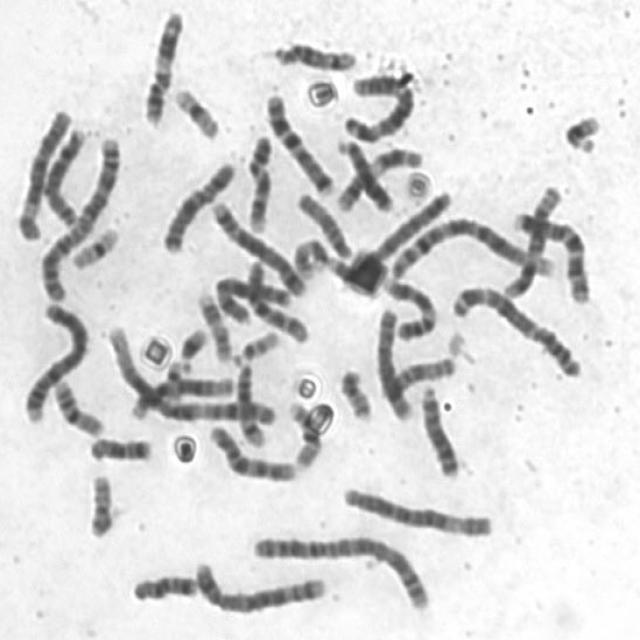A1: (99, 318, 280, 428), (381, 208, 563, 282)
A2: (242, 524, 433, 612), (32, 127, 124, 303)
A3: (444, 278, 584, 380), (337, 65, 417, 144)
B4: (336, 182, 454, 296), (15, 294, 91, 425)
B5: (204, 192, 309, 298), (185, 552, 329, 616)
C10: (239, 251, 312, 346), (200, 416, 300, 484)
C11: (329, 138, 424, 212), (136, 2, 186, 128)
C12: (496, 177, 566, 299), (125, 368, 238, 421)
C6: (334, 477, 496, 540), (8, 101, 75, 243)
C7: (258, 84, 337, 197), (505, 204, 592, 304)
C8: (368, 299, 416, 422), (36, 118, 89, 228)
C9: (376, 268, 438, 342), (239, 126, 275, 234)
D13: (329, 130, 395, 214), (414, 376, 462, 479)
D14: (227, 349, 268, 449), (266, 33, 359, 73)
D15: (290, 184, 354, 261), (373, 349, 458, 403)
E16: (46, 370, 106, 439), (282, 393, 324, 471)
E17: (191, 284, 233, 364), (287, 230, 330, 280)
E18: (124, 565, 200, 604), (82, 429, 155, 464)
F19: (166, 78, 222, 141), (64, 216, 121, 271)
F20: (79, 466, 117, 540), (332, 360, 374, 423)
G21: (556, 105, 604, 156), (171, 318, 211, 365)
G22: (228, 322, 284, 365), (164, 360, 192, 401)
X: (154, 152, 238, 255), (211, 266, 296, 324)
